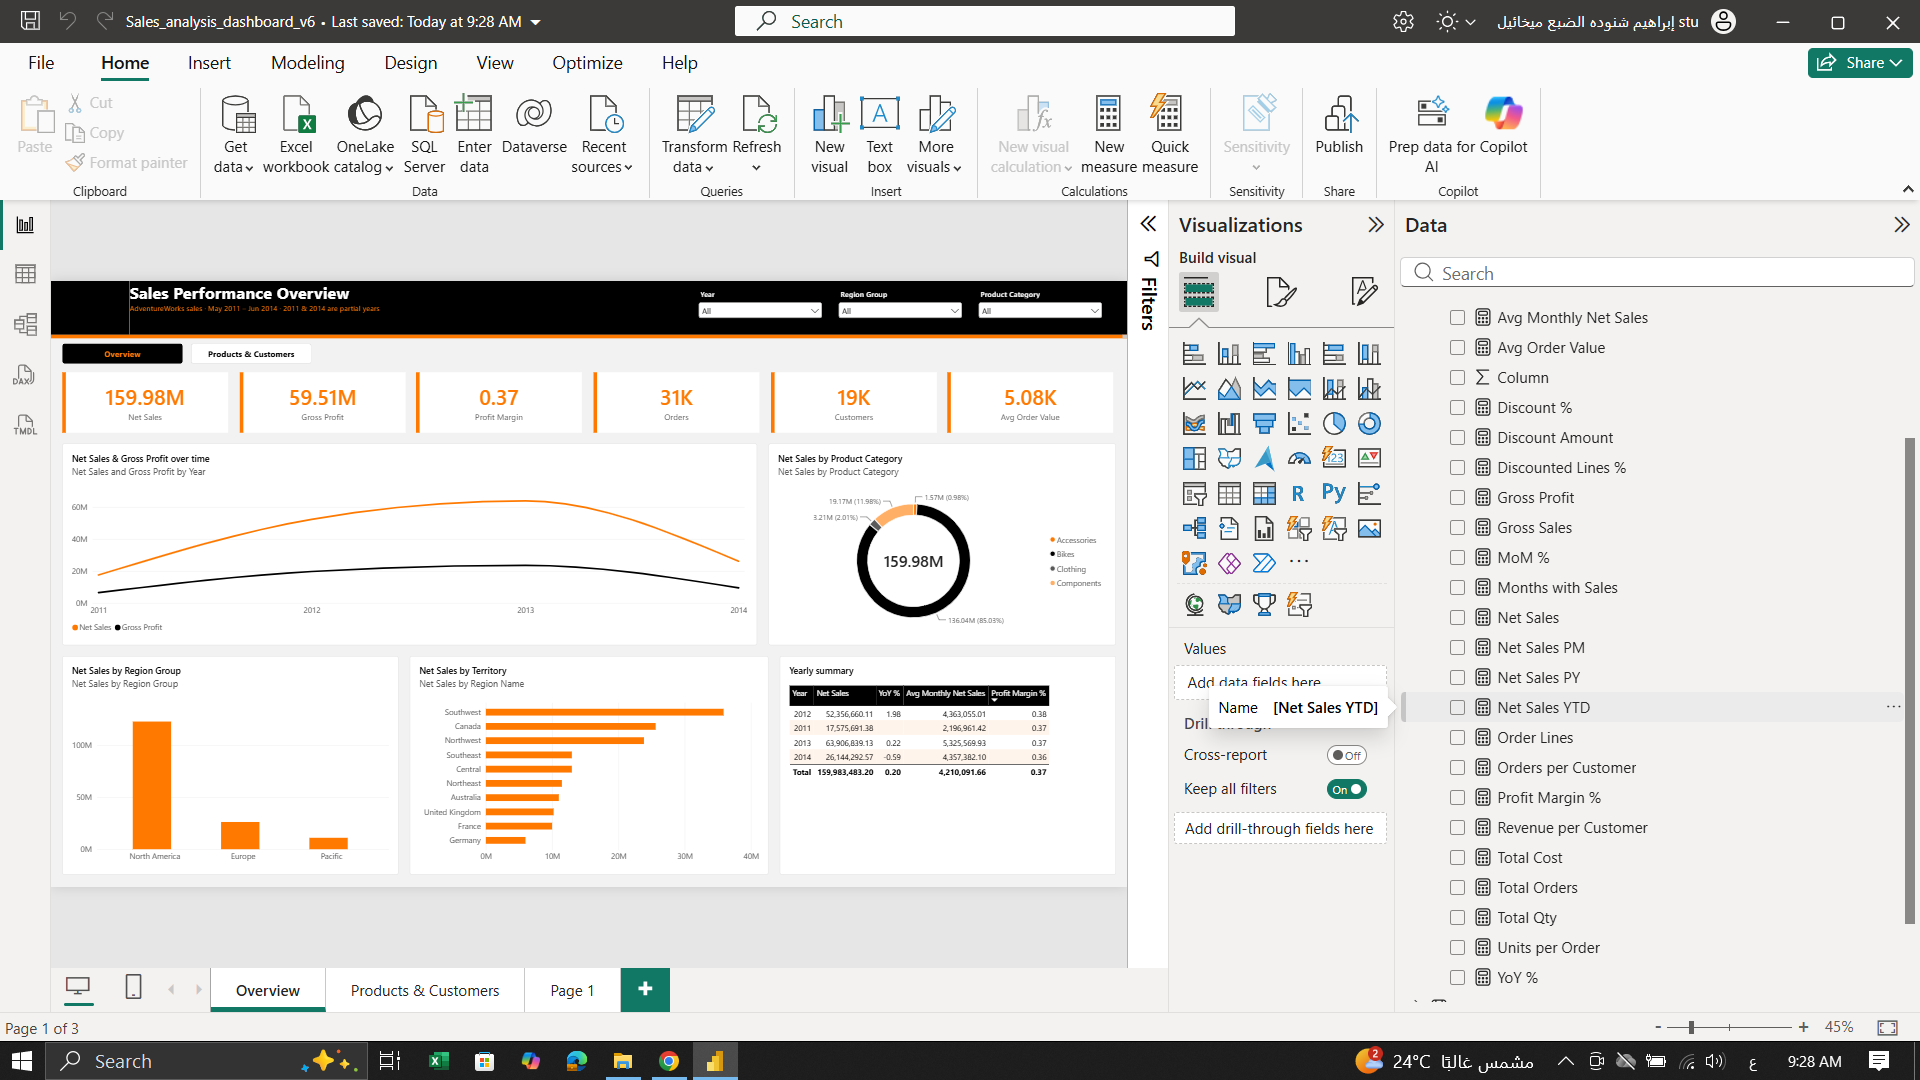

This screenshot's page, from the dashboard's own definition file:
{"tool":"powerbi","page":{"name":"Overview","canvas":[1920,1080],"ordinal":0},"visuals":[{"type":"textbox","box":[140,0,1780,96],"z":1000},{"type":"textbox","box":[0,0,140,96],"z":2000},{"type":"textbox","box":[0,96,1920,6],"z":3000},{"type":"slicer","fields":{"Values":["Fact_Sales.OrderDate.Variation.Date Hierarchy.Year"]},"box":[1150,14,230,70],"z":4000},{"type":"slicer","fields":{"Values":["Dim_Region.Region Group"]},"box":[1400,14,230,70],"z":5000},{"type":"slicer","fields":{"Values":["Dim_Products.Product Category"]},"box":[1650,14,230,70],"z":6000},{"type":"actionButton","box":[20,112,215,36],"z":7000},{"type":"actionButton","box":[250,112,215,36],"z":8000},{"type":"card","fields":{"Values":["Measures_Table.Net Sales"]},"box":[20,162,296,108],"z":9000},{"type":"textbox","box":[20,162,6,108],"z":10000},{"type":"card","fields":{"Values":["Measures_Table.Gross Profit"]},"box":[336,162,296,108],"z":11000},{"type":"textbox","box":[336,162,6,108],"z":12000},{"type":"card","fields":{"Values":["Measures_Table.Profit Margin %"]},"box":[652,162,296,108],"z":13000},{"type":"textbox","box":[652,162,6,108],"z":14000},{"type":"card","fields":{"Values":["Measures_Table.Total Orders"]},"box":[968,162,296,108],"z":15000},{"type":"textbox","box":[968,162,6,108],"z":16000},{"type":"card","fields":{"Values":["Measures_Table.Active Customers"]},"box":[1284,162,296,108],"z":17000},{"type":"textbox","box":[1284,162,6,108],"z":18000},{"type":"card","fields":{"Values":["Measures_Table.Avg Order Value"]},"box":[1600,162,296,108],"z":19000},{"type":"textbox","box":[1600,162,6,108],"z":20000},{"type":"lineChart","title":"Net Sales & Gross Profit over time","fields":{"Category":["Fact_Sales.OrderDate.Variation.Date Hierarchy.Year","Fact_Sales.OrderDate.Variation.Date Hierarchy.Month"],"Y":["Measures_Table.Net Sales","Measures_Table.Gross Profit"]},"box":[20,290,1240,360],"z":21000},{"type":"donutChart","title":"Net Sales by Product Category","fields":{"Category":["Dim_Products.Product Category"],"Y":["Measures_Table.Net Sales"]},"box":[1280,290,620,360],"z":22000},{"type":"clusteredColumnChart","title":"Net Sales by Region Group","fields":{"Category":["Dim_Region.Region Group"],"Y":["Measures_Table.Net Sales"]},"box":[20,670,600,390],"z":23000},{"type":"clusteredBarChart","title":"Net Sales by Territory","fields":{"Category":["Dim_Region.Region Name"],"Y":["Measures_Table.Net Sales"]},"box":[640,670,640,390],"z":24000},{"type":"tableEx","title":"Yearly summary","fields":{"Values":["Fact_Sales.OrderDate.Variation.Date Hierarchy.Year","Measures_Table.Net Sales","Measures_Table.YoY %","Measures_Table.Avg Monthly Net Sales","Measures_Table.Profit Margin %"]},"box":[1300,670,600,390],"z":25000}]}

Visuals, with their boxes on the page's 1920x1080 design canvas (x1, y1, x2, y2). These are canvas units, not pixel positions in the 1920x1080 screenshot, which may show the page scaled, cropped or inside an application window:
textbox: (x1=140, y1=0, x2=1920, y2=96)
textbox: (x1=0, y1=0, x2=140, y2=96)
textbox: (x1=0, y1=96, x2=1920, y2=102)
slicer - Fact_Sales.OrderDate.Variation.Date Hierarchy.Year: (x1=1150, y1=14, x2=1380, y2=84)
slicer - Dim_Region.Region Group: (x1=1400, y1=14, x2=1630, y2=84)
slicer - Dim_Products.Product Category: (x1=1650, y1=14, x2=1880, y2=84)
actionButton: (x1=20, y1=112, x2=235, y2=148)
actionButton: (x1=250, y1=112, x2=465, y2=148)
card - Measures_Table.Net Sales: (x1=20, y1=162, x2=316, y2=270)
textbox: (x1=20, y1=162, x2=26, y2=270)
card - Measures_Table.Gross Profit: (x1=336, y1=162, x2=632, y2=270)
textbox: (x1=336, y1=162, x2=342, y2=270)
card - Measures_Table.Profit Margin %: (x1=652, y1=162, x2=948, y2=270)
textbox: (x1=652, y1=162, x2=658, y2=270)
card - Measures_Table.Total Orders: (x1=968, y1=162, x2=1264, y2=270)
textbox: (x1=968, y1=162, x2=974, y2=270)
card - Measures_Table.Active Customers: (x1=1284, y1=162, x2=1580, y2=270)
textbox: (x1=1284, y1=162, x2=1290, y2=270)
card - Measures_Table.Avg Order Value: (x1=1600, y1=162, x2=1896, y2=270)
textbox: (x1=1600, y1=162, x2=1606, y2=270)
"Net Sales & Gross Profit over time" lineChart: (x1=20, y1=290, x2=1260, y2=650)
"Net Sales by Product Category" donutChart: (x1=1280, y1=290, x2=1900, y2=650)
"Net Sales by Region Group" clusteredColumnChart: (x1=20, y1=670, x2=620, y2=1060)
"Net Sales by Territory" clusteredBarChart: (x1=640, y1=670, x2=1280, y2=1060)
"Yearly summary" tableEx: (x1=1300, y1=670, x2=1900, y2=1060)
